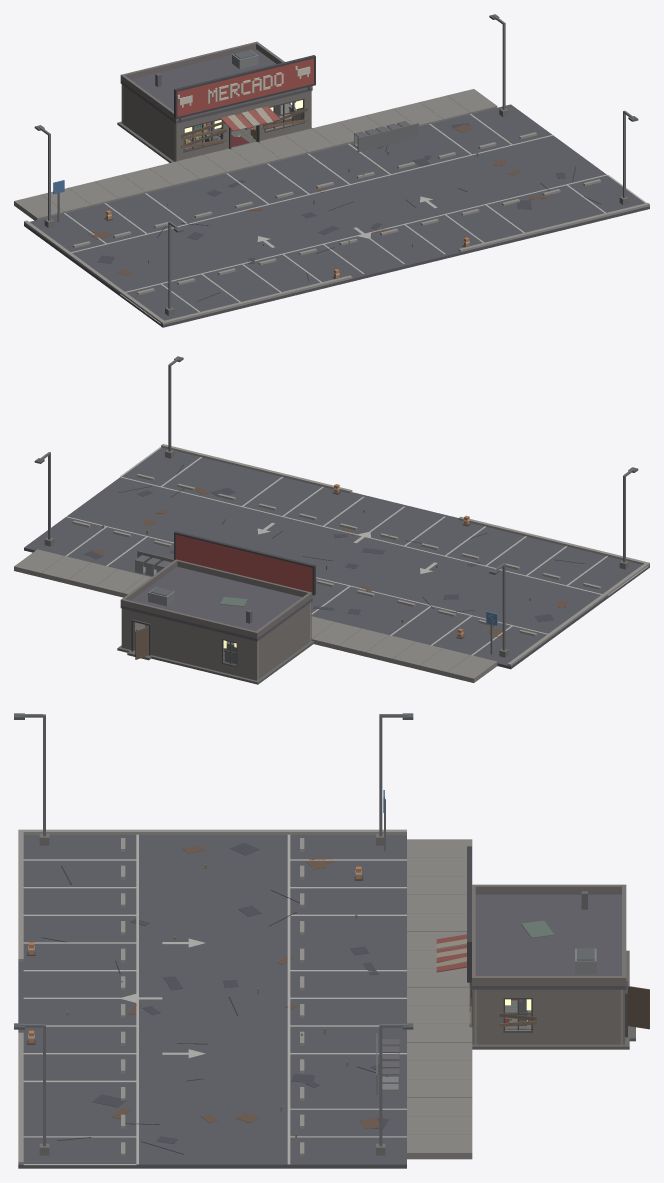
File: predio_mercado.glb
3 renders of one model, top to bottom at view 1: azimuth 30°, elevation 25°; view 2: azimuth 150°, elevation 25°; view 3: azimuth 270°, elevation 25°, orthographic. The views are drawn at different scales.
Visible parts, largest first — view 1: parking, roof, sign, wall_south, wall_west, cart_corral, decor_grim, awning, furniture, floor; view 2: parking, roof, wall_north, sign, wall_west, floor, cart_corral; view 3: parking, roof, wall_east, floor, awning, cart_corral, doors, sign.
Boxes of the visible parts, x1,y1,x2,y2 form: parking: (14,14,649,327); roof: (120,41,312,123); sign: (174,55,315,121); wall_south: (174,91,311,161); wall_west: (123,85,174,161); cart_corral: (354,121,418,152); decor_grim: (181,101,307,148); awning: (220,106,280,131); furniture: (184,103,294,144); floor: (117,120,312,162); parking: (14,356,649,682); roof: (120,559,312,641); wall_north: (121,608,258,680); sign: (174,531,315,595); wall_west: (258,603,309,678); floor: (117,641,314,684); cart_corral: (135,550,173,576); parking: (14,713,472,1168); roof: (471,884,626,989); wall_east: (476,989,620,1044); floor: (472,950,635,1049); awning: (436,934,466,972); cart_corral: (376,1033,399,1094); doors: (628,986,649,1029); sign: (467,846,471,985).
Bounding box in the file's own units: 36.12 × 6.72 × 29.14.
